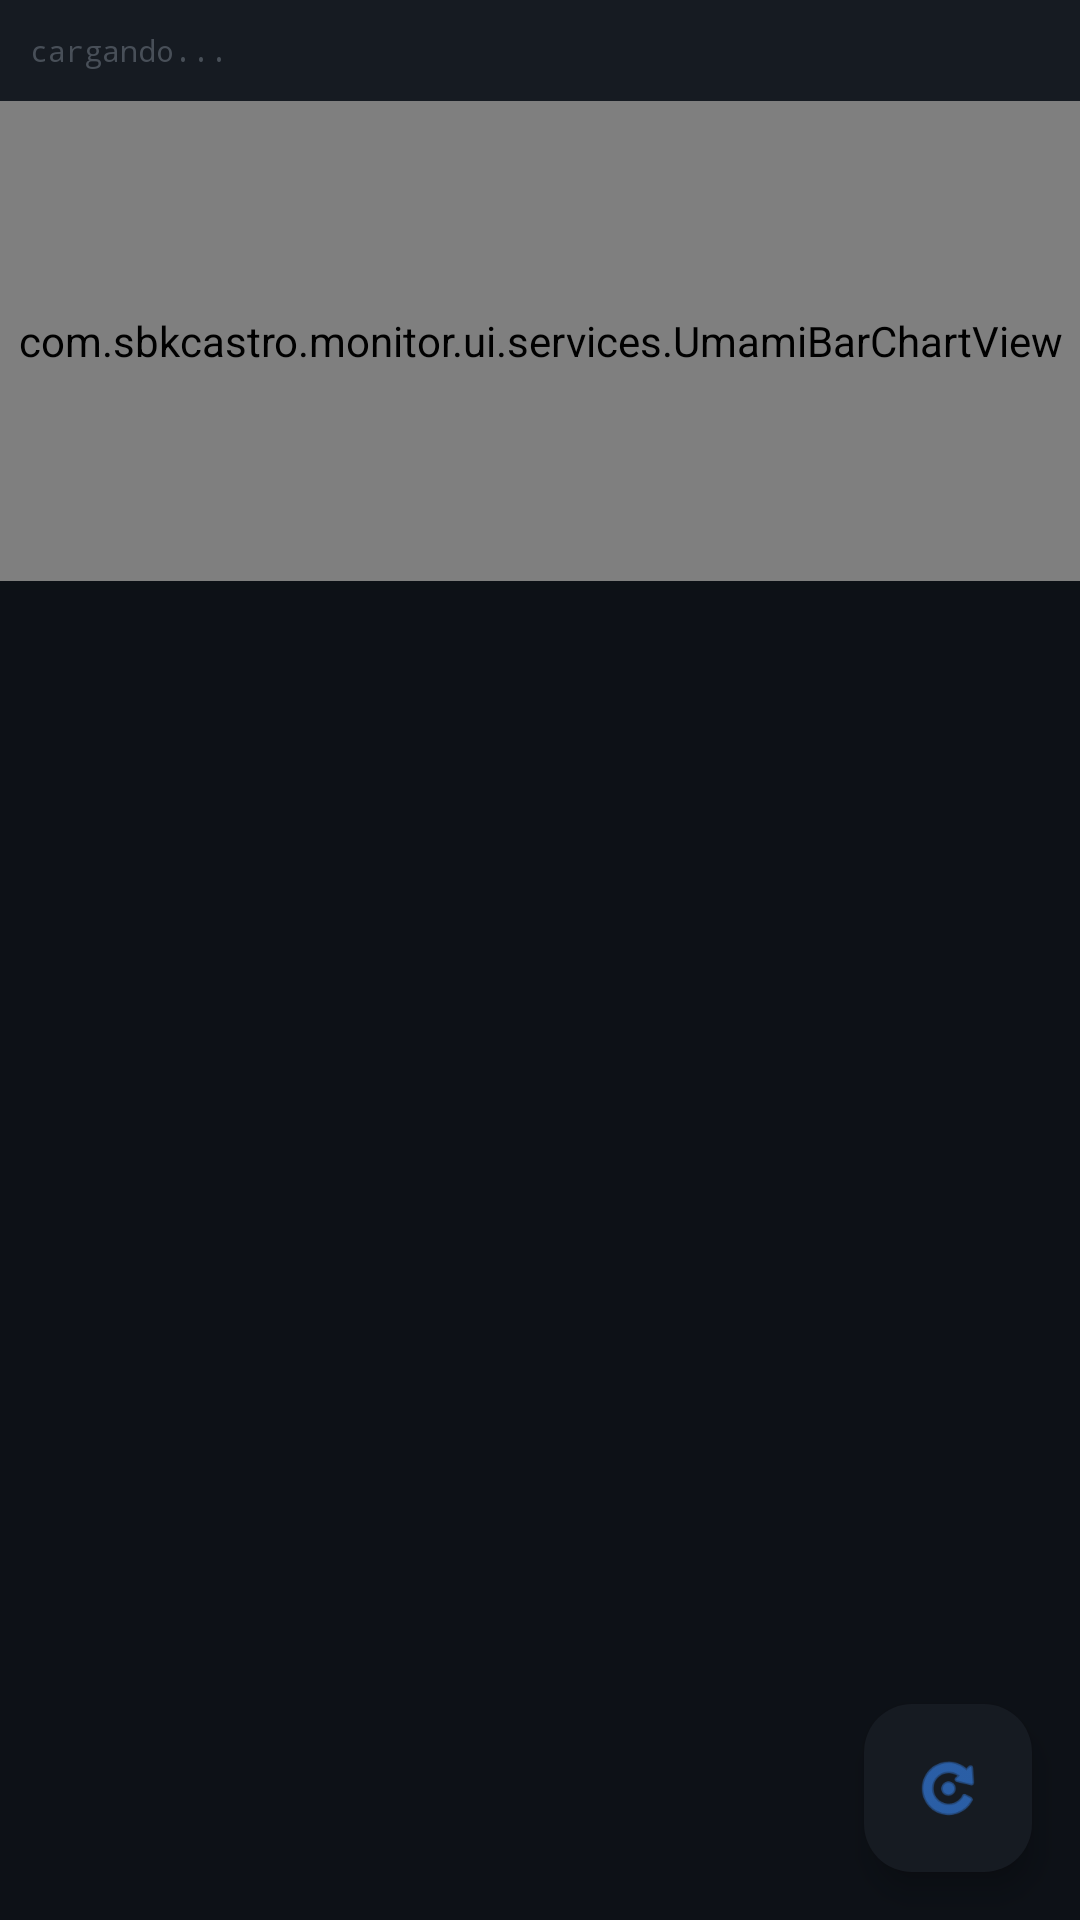

Screen size 1080w x 1920h. Icon name, then its center in pixels as (x,y):
Actualizar: (947,1788)
